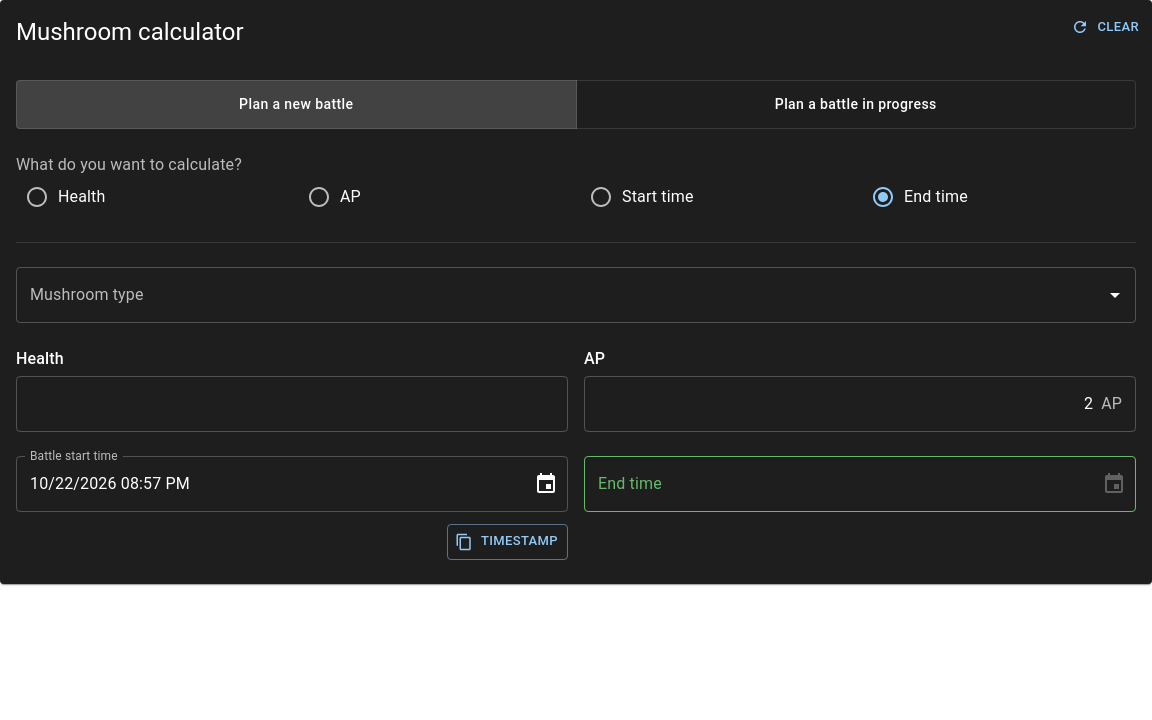
MushCalcRadio › uses a numeric keyboard and strips non-numeric AP characters
This screenshot has width=1152, height=720.
Replace the text in the field labelled "AP" with "12abc,500": (839, 404) left=584, top=376, right=1093, bottom=432
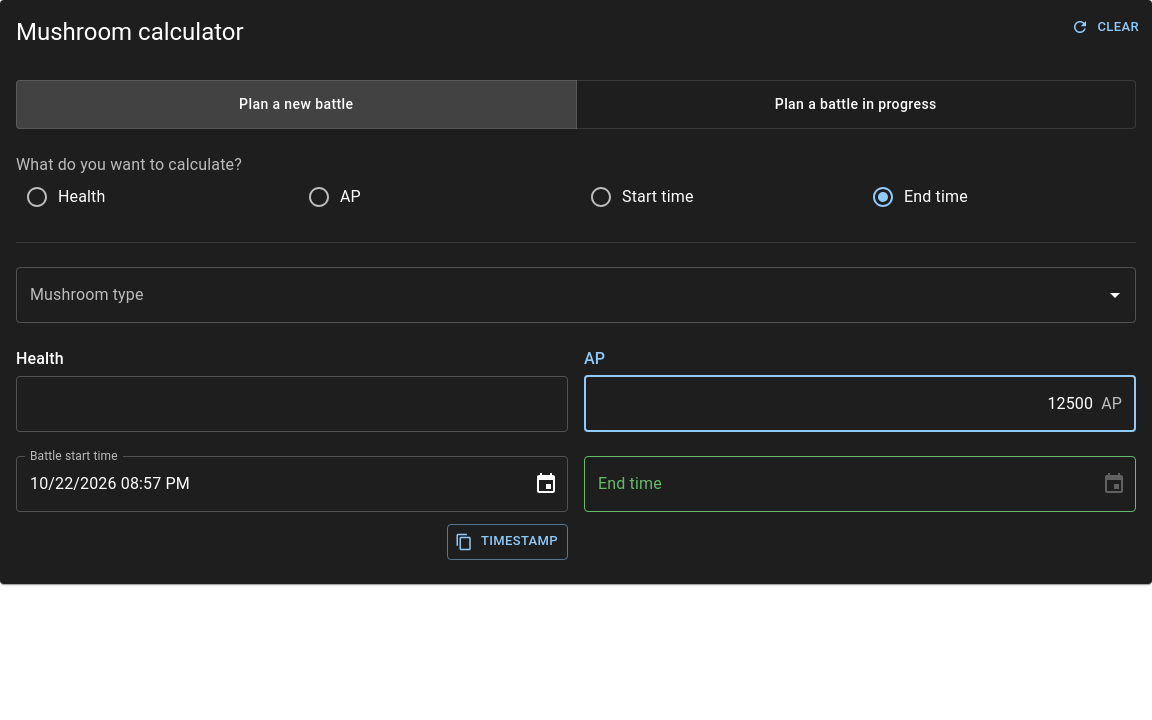
Leave the field labelled "AP", box left=584, top=376, right=1093, bottom=432
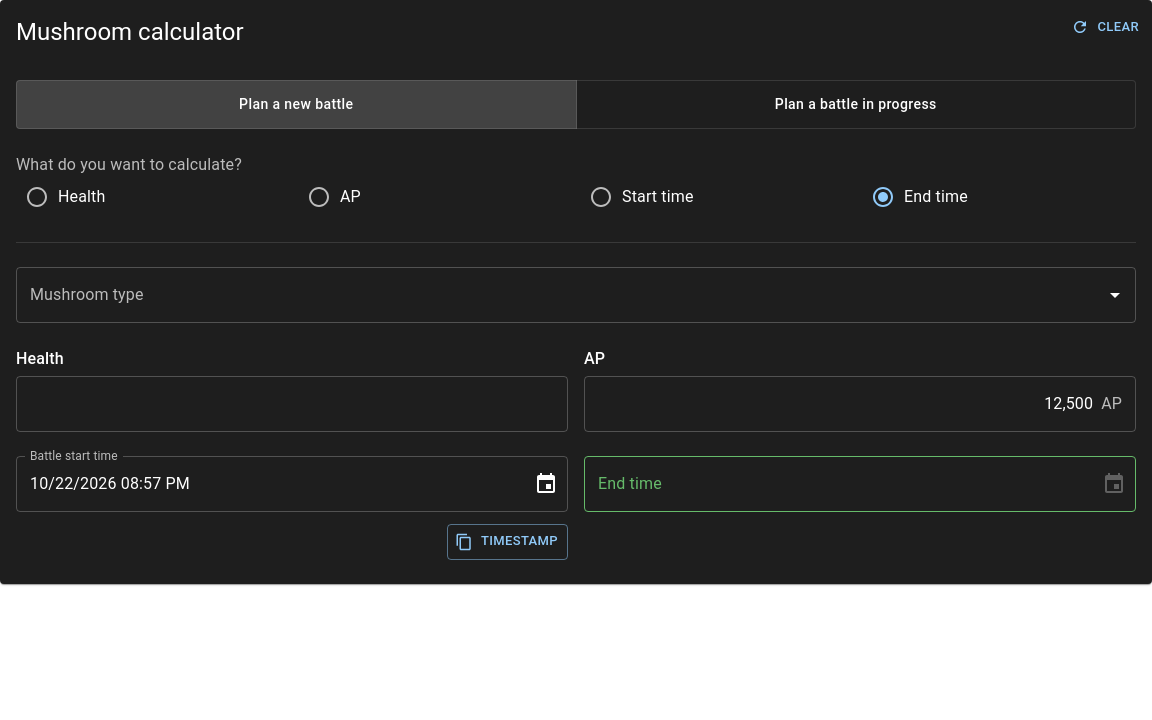
Result: the field labelled "AP" holds "12,500" at left=584, top=376, right=1093, bottom=432
